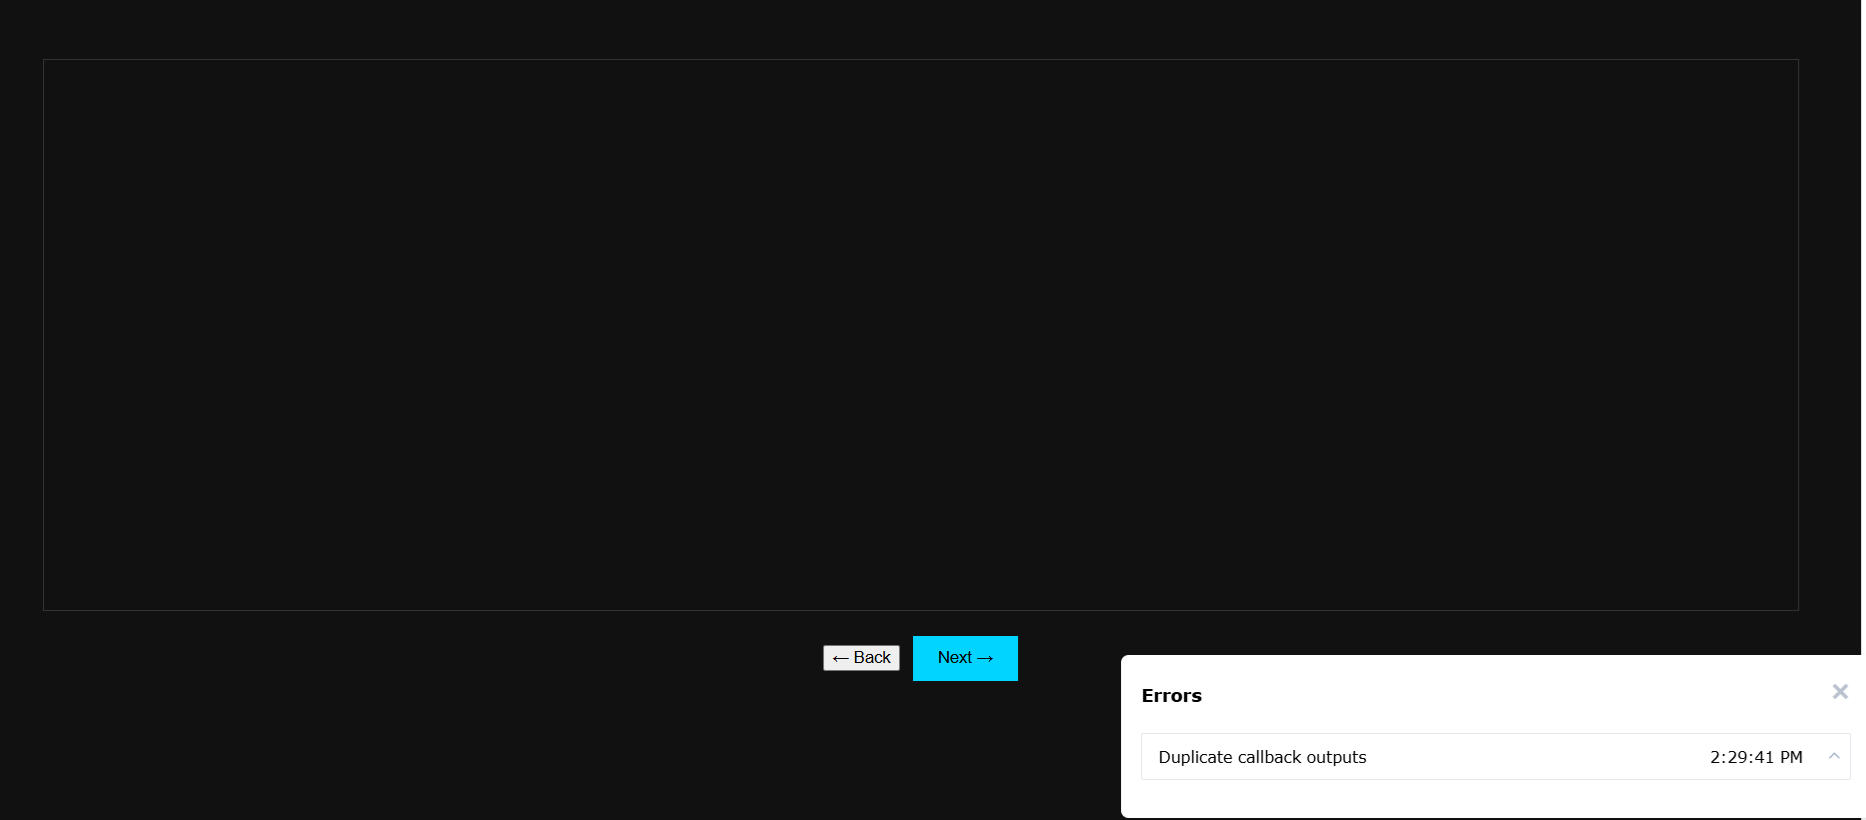

The dashboard page shown, as its layout file describes it:
{"tool":"powerbi","page":{"name":"Page 1","canvas":[1280,720],"ordinal":0},"visuals":[{"type":"hundredPercentStackedAreaChart","fields":{"Y":["CountNonNull(df_final.BagID)"],"Category":["df_final.timestamp"]},"box":[489.9,31.6,388.3,385.6],"z":0}]}

Visuals, with their boxes on the page's 1280x720 design canvas (x1, y1, x2, y2). These are canvas units, not pixel positions in the 1866x820 screenshot, which may show the page scaled, cropped or inside an application window:
hundredPercentStackedAreaChart - CountNonNull(df_final.BagID) x df_final.timestamp: box(490, 32, 878, 417)
